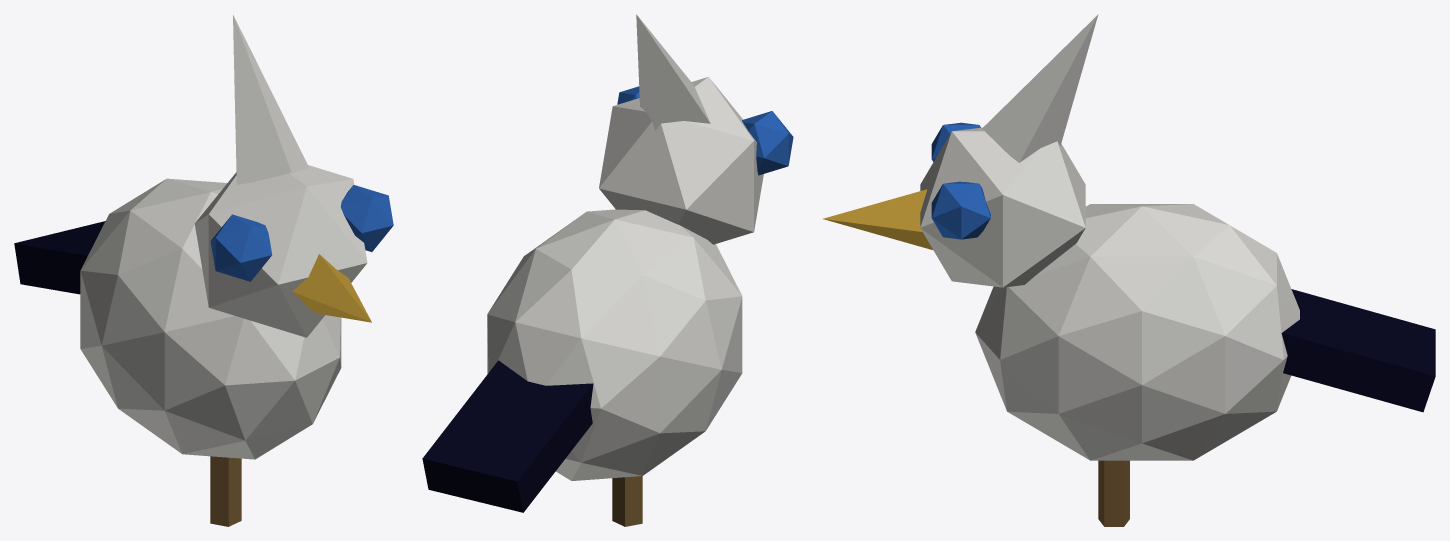
The model's file is jalakbali.glb.
3 renders of one model, left to right at view 1: azimuth 30°, elevation 25°; view 2: azimuth 150°, elevation 25°; view 3: azimuth 270°, elevation 25°, orthographic. The views are drawn at different scales.
Parts seen in each view (by area): view 1: kbs_jalakbali; view 2: kbs_jalakbali; view 3: kbs_jalakbali.
Part boxes in pixels (bbox=[...]): kbs_jalakbali: bbox=[14, 15, 393, 526]; kbs_jalakbali: bbox=[422, 14, 793, 526]; kbs_jalakbali: bbox=[823, 14, 1435, 526].
Bounding box in the file's own units: 0.1118 × 0.25 × 0.274.
